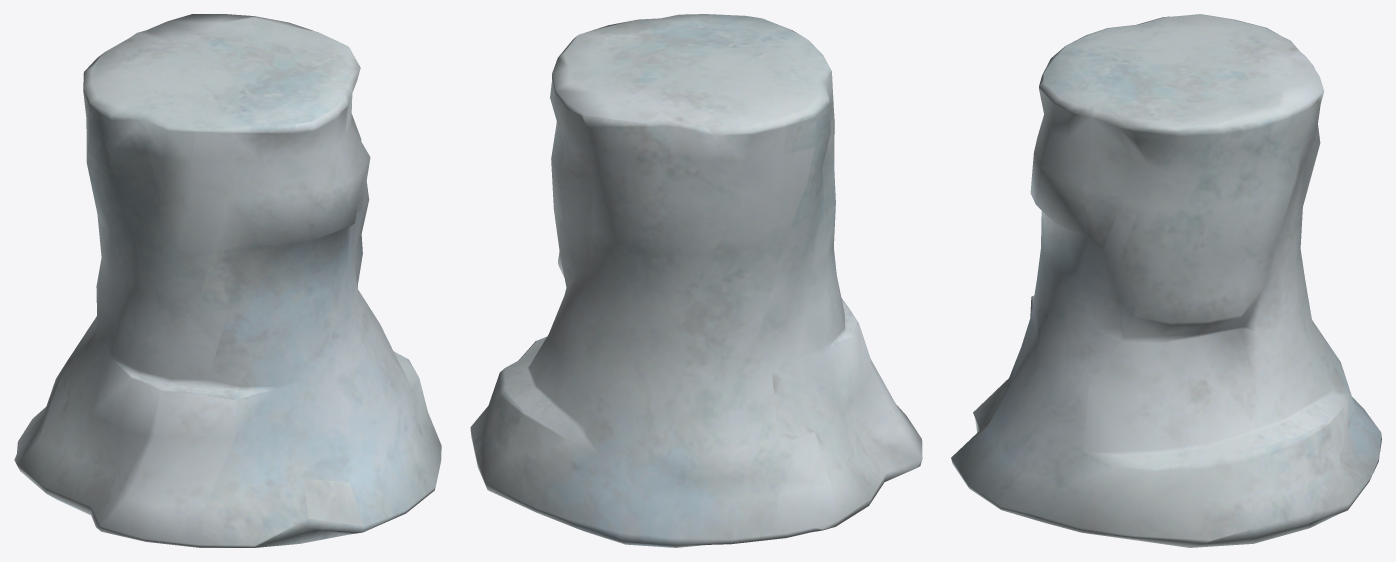
Rendered from P_RockDesert_CliffB02.obj.
3 views of the same model, side by side, from view 1: azimuth 30°, elevation 25°; view 2: azimuth 150°, elevation 25°; view 3: azimuth 270°, elevation 25° (orthographic). The views are drawn at different scales.
Size of the model in its own units: 49.06 by 50.8 by 49.38.
